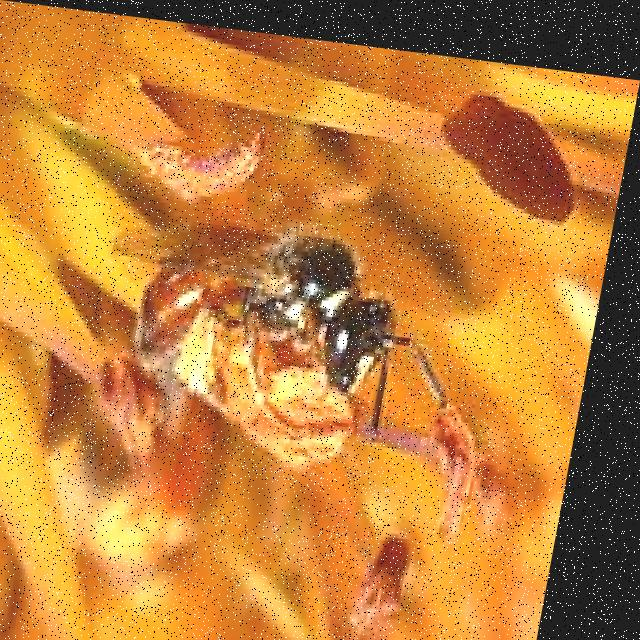Allodapula: (90, 167, 511, 461)
